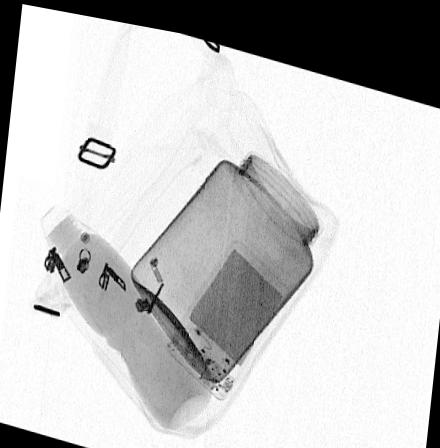Powerbank: (164, 230, 293, 393)
